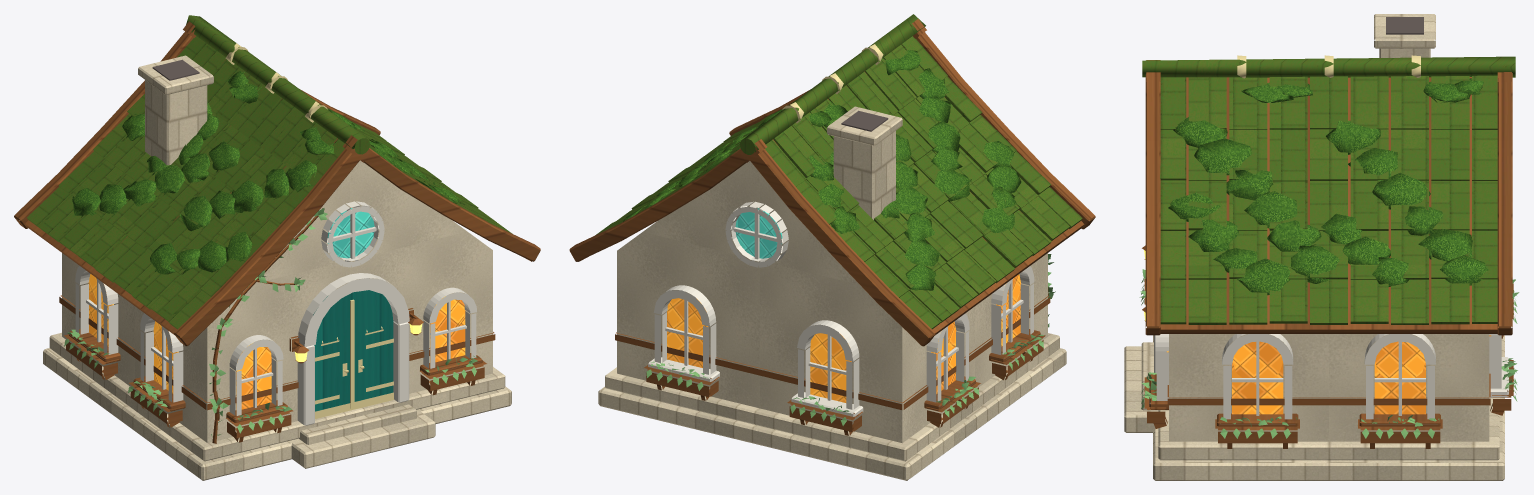
File: cottage-teal.glb
3 renders of one model, left to right at view 1: azimuth 30°, elevation 25°; view 2: azimuth 150°, elevation 25°; view 3: azimuth 270°, elevation 25°, orthographic. The views are drawn at different scales.
Visible parts, largest first — view 1: cottage-teal; view 2: cottage-teal; view 3: cottage-teal.
Boxes of the visible parts, bbox=[...] form: cottage-teal: bbox=[14, 15, 540, 480]; cottage-teal: bbox=[569, 14, 1095, 480]; cottage-teal: bbox=[1124, 14, 1519, 480].
Bounding box in the file's own units: 6.05 × 4.99 × 5.21.
Materials: 15 (8 with a texture image).
